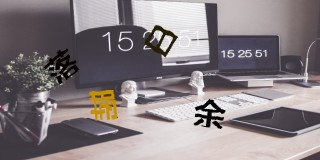余: (193, 98, 225, 131)
日: (144, 24, 178, 57)
晖: (86, 88, 119, 121)
落: (44, 49, 80, 84)
